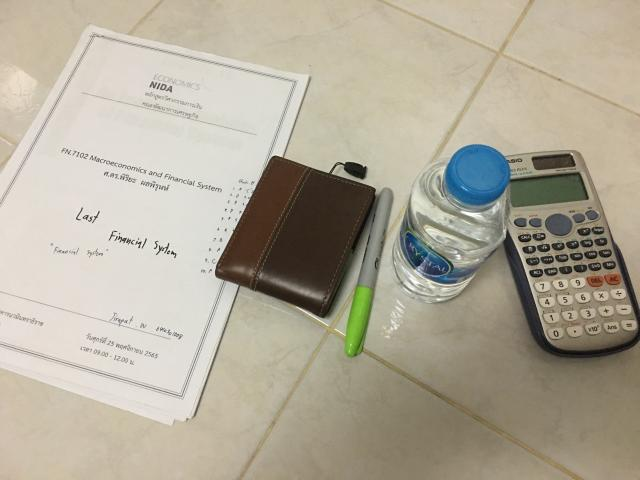Pen: (345, 188, 392, 356)
Wallet: (215, 156, 375, 316)
bottle: (392, 145, 510, 302)
paper: (0, 25, 309, 424)
